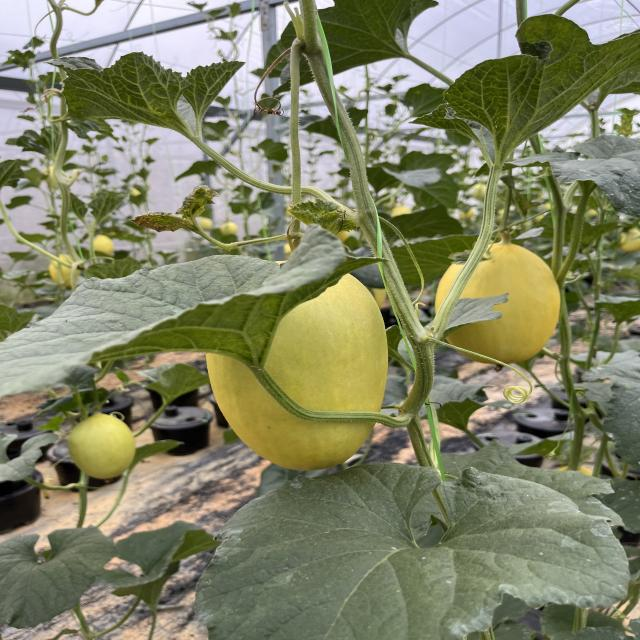CMV: (0, 240, 371, 406), (404, 12, 640, 154), (42, 47, 251, 135)
SLCV: (284, 199, 369, 237)
bacterial wilt: (175, 179, 226, 219), (121, 207, 180, 238)
downy mildew: (195, 441, 634, 640), (407, 15, 640, 148)
